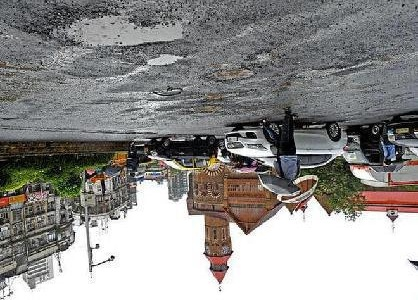pothole: (54, 12, 190, 49), (206, 65, 256, 84), (143, 52, 184, 69), (150, 87, 183, 98)
